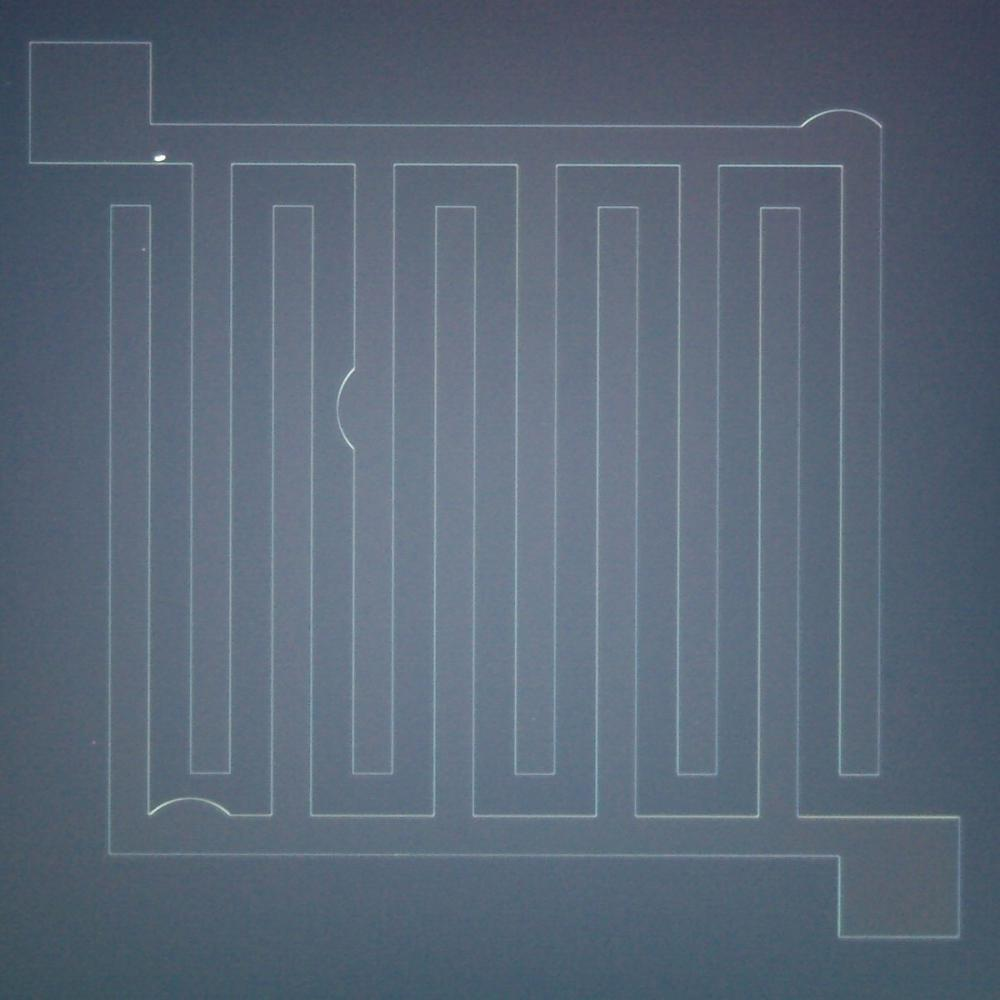curve circuit: (329, 347, 373, 464), (782, 97, 890, 144), (135, 787, 246, 826)
spot: (148, 149, 172, 168)
